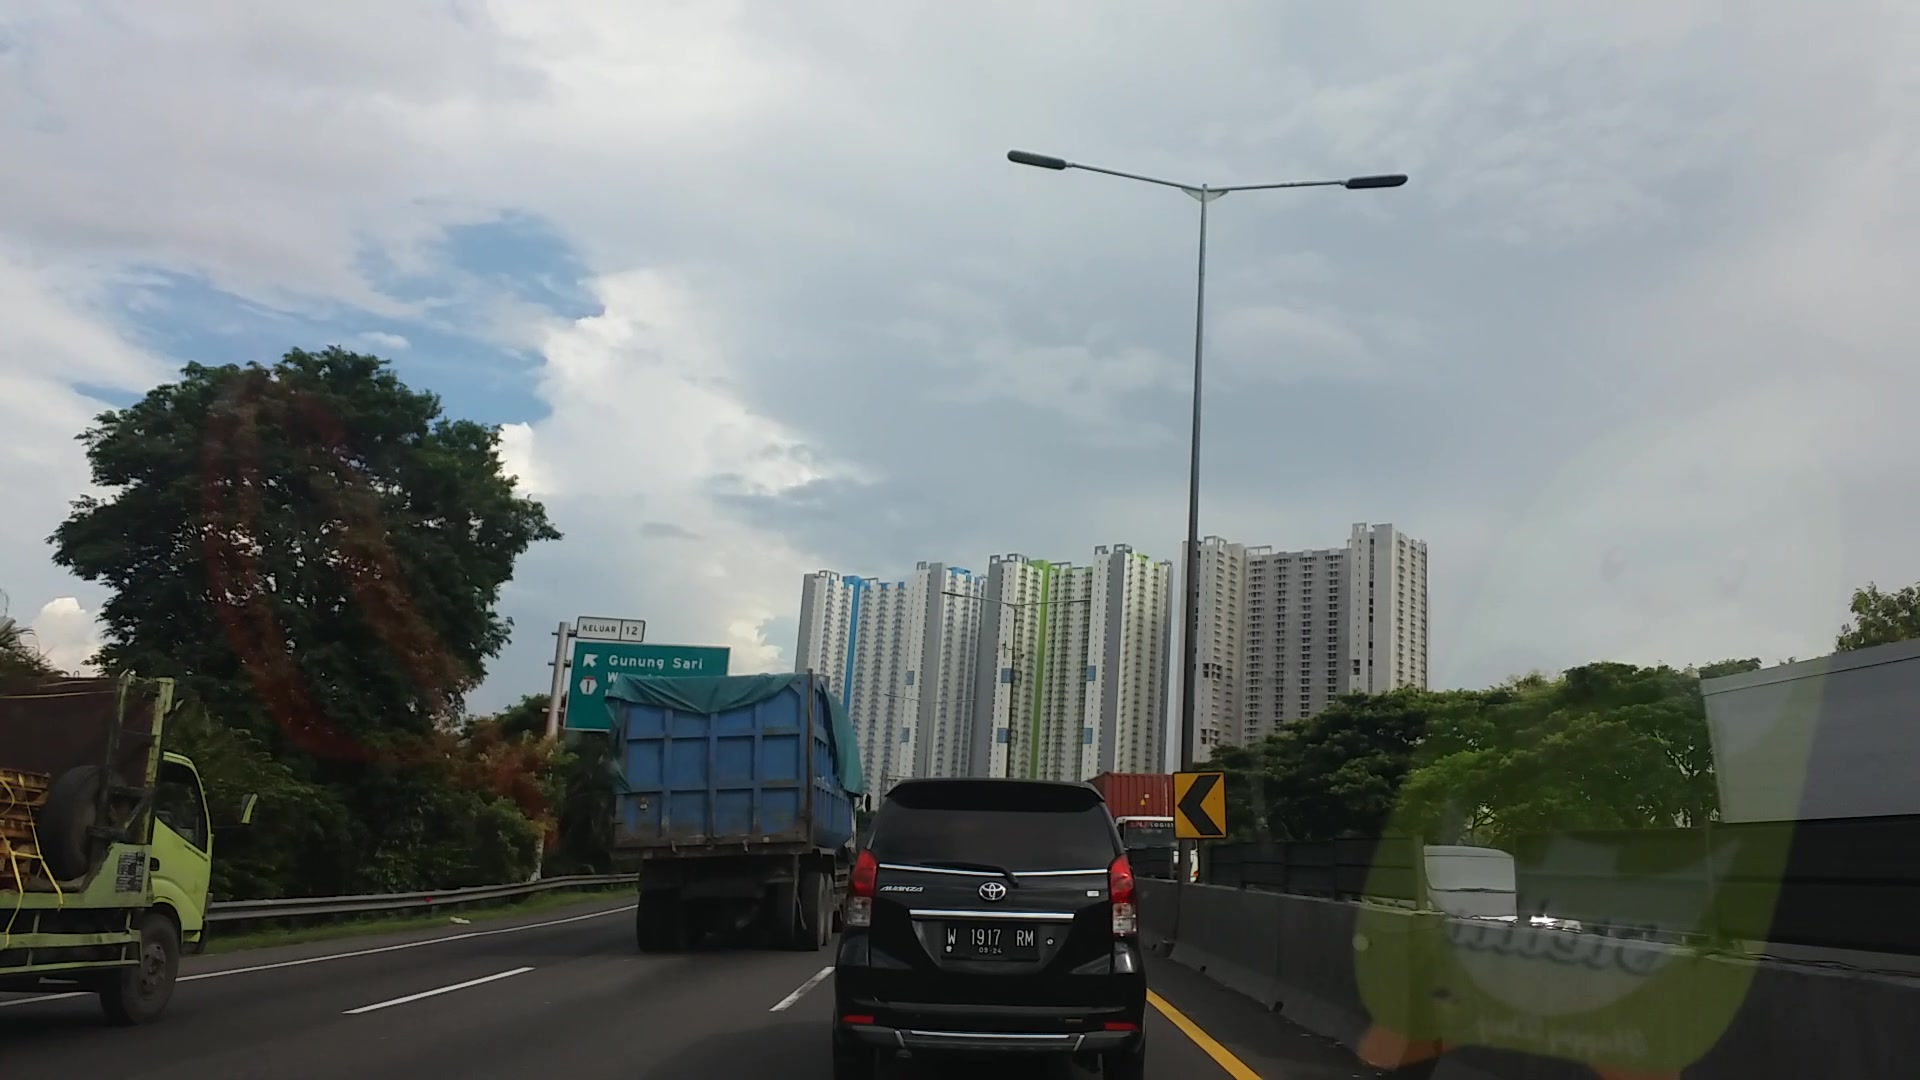plate_positive: (944, 920, 1036, 956)
